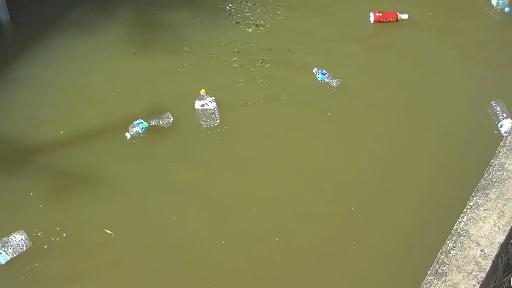plastic: (97, 96, 194, 138), (298, 62, 383, 94), (186, 82, 228, 134), (0, 219, 44, 268), (358, 3, 413, 27), (485, 94, 512, 129), (471, 0, 512, 23)
